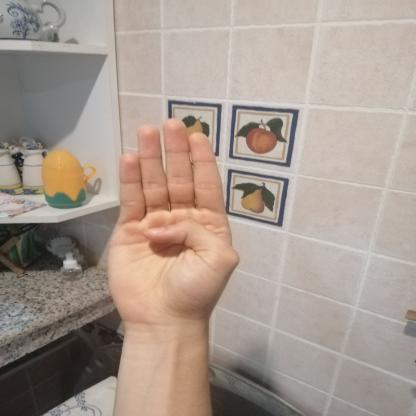KAAF: (88, 107, 255, 338)
